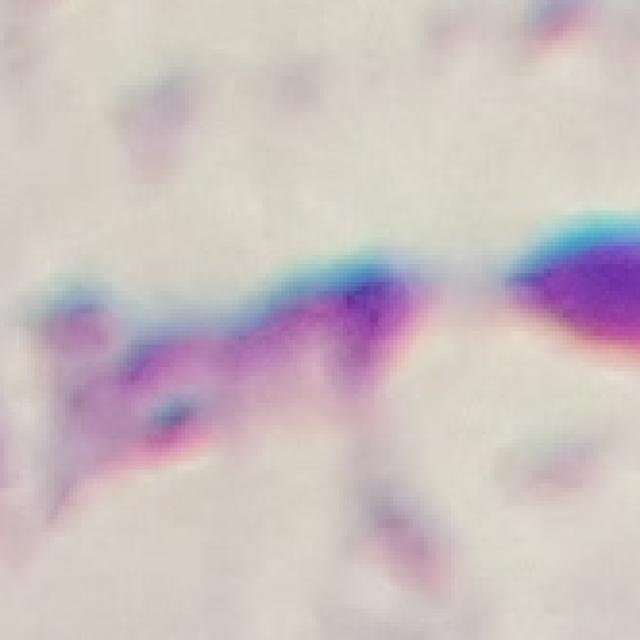non-sperm: (70, 226, 418, 508)
